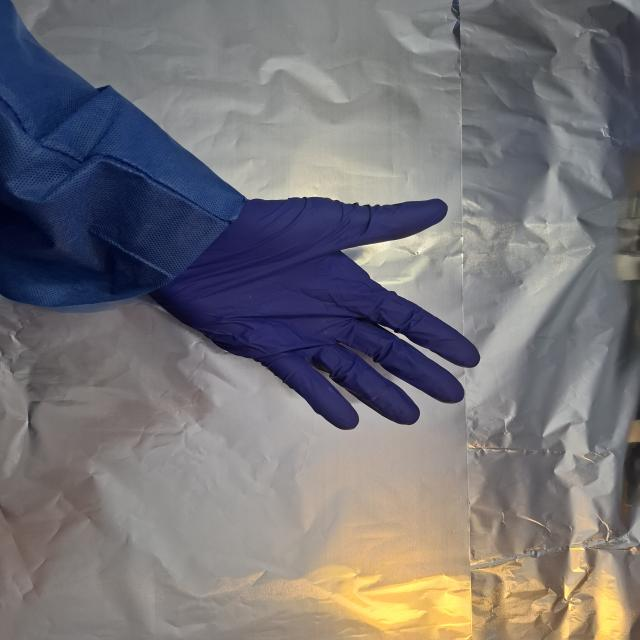glove_on: (145, 195, 482, 432)
